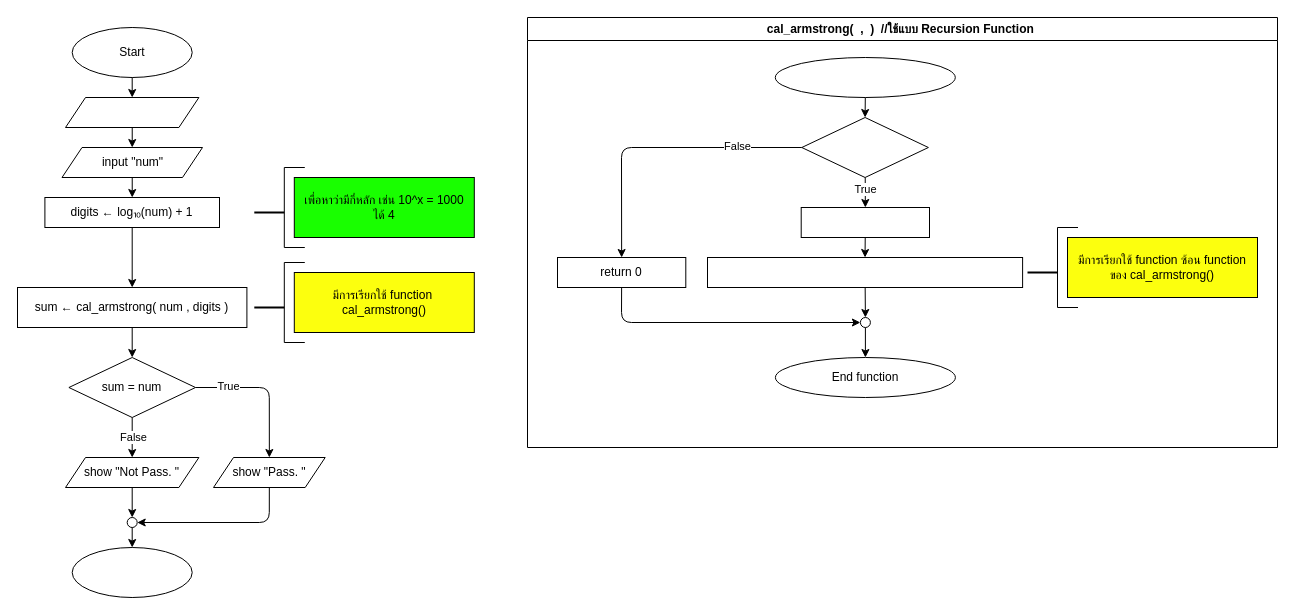
Some shapes in this 1295 by 615 pixel diagram are drawn without their labels. The centre of each missing label's shape, as x and y in pixels:
cal_armstrongn( num , digits ): (864,77)
End: (131,572)
num = 0: (864,147)
position = num % 10: (865,222)
return position^digits + cal_armstrong( num / 10 , digits): (864,272)
show "Enter num : ": (131,112)
